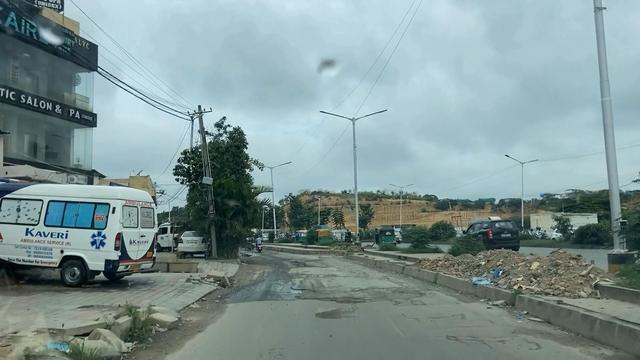RoadDamages: (236, 264, 361, 315), (362, 273, 428, 303)
